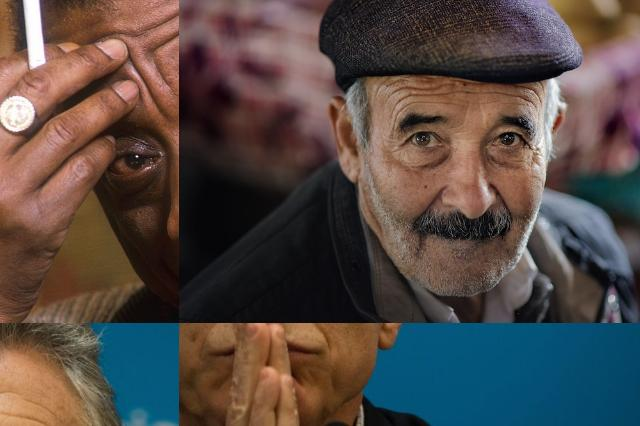crows_feet: (529, 144, 545, 168), (390, 138, 408, 156)
forehead: (139, 3, 179, 48), (385, 80, 445, 108), (508, 82, 542, 108), (0, 405, 42, 425), (122, 52, 146, 79), (22, 394, 54, 414), (0, 384, 12, 401)
frown_line: (143, 80, 171, 122), (452, 120, 468, 141)
gummy_smile: (419, 178, 446, 216), (492, 182, 514, 216)
sad_smile: (317, 326, 337, 354)
